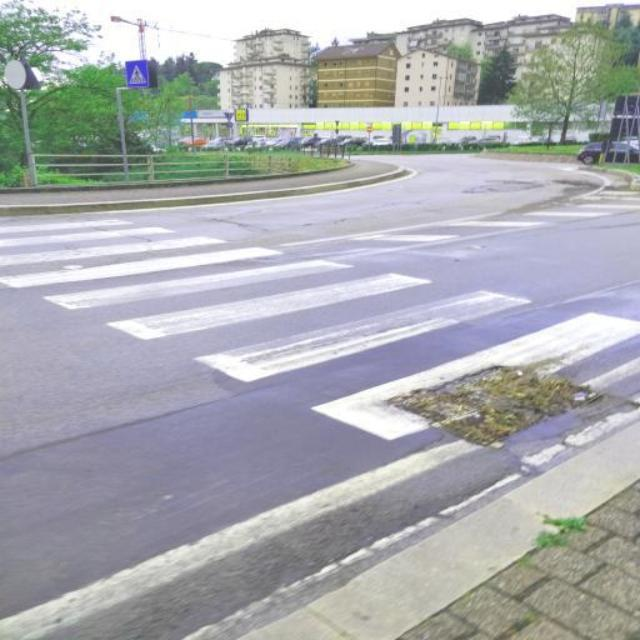sidewalk: (0, 212, 640, 450)
